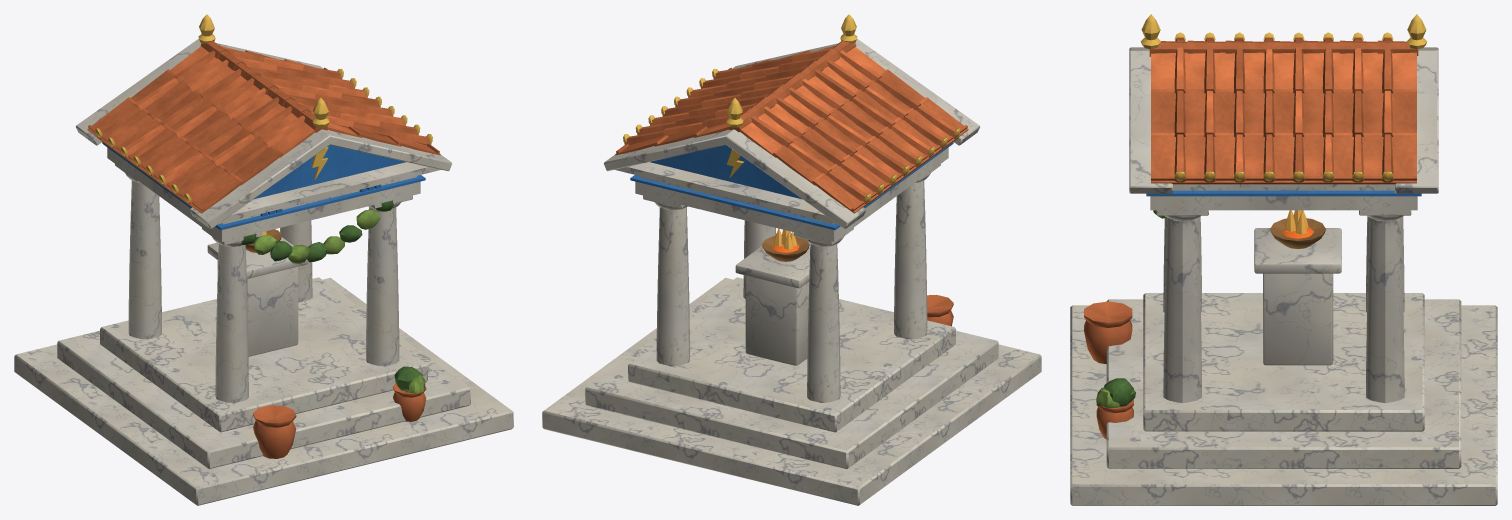
File: country_shrine_roadside.glb
3 views of the same model, side by side, from view 1: azimuth 30°, elevation 25°; view 2: azimuth 150°, elevation 25°; view 3: azimuth 270°, elevation 25° (orthographic). The views are drawn at different scales.
Visible parts, largest first — view 1: step, marble, terracotta1, terracotta0, terracotta2, paint_azure, terracotta, gold, leaf_dark, leaf; view 2: step, marble, terracotta1, terracotta0, terracotta2, paint_azure, gold, terracotta, bronze; view 3: step, marble, terracotta1, terracotta0, terracotta2, terracotta, gold, paint_azure, bronze, leaf_dark, flame.005.
Part boxes in pixels (box(x1,y1,x2,y2)): step: box(14, 277, 513, 505); marble: box(76, 39, 451, 402); terracotta1: box(88, 41, 439, 211); terracotta0: box(87, 48, 440, 213); terracotta2: box(122, 45, 405, 185); paint_azure: box(102, 142, 425, 230); terracotta: box(253, 383, 426, 458); gold: box(95, 14, 432, 202); leaf_dark: box(241, 200, 422, 390); leaf: box(253, 209, 425, 393); step: box(542, 277, 1041, 505); marble: box(604, 39, 979, 402); terracotta1: box(616, 40, 967, 211); terracotta0: box(615, 50, 968, 213); terracotta2: box(650, 45, 933, 185); paint_azure: box(630, 142, 953, 230); gold: box(623, 14, 960, 202); terracotta: box(927, 295, 953, 326); bronze: box(762, 235, 809, 261); step: box(1070, 293, 1497, 505); marble: box(1129, 47, 1438, 403); terracotta1: box(1149, 37, 1418, 182); terracotta0: box(1151, 37, 1416, 184); terracotta2: box(1151, 37, 1416, 182); terracotta: box(1084, 301, 1133, 439); gold: box(1140, 14, 1427, 181); paint_azure: box(1146, 190, 1421, 196); bronze: box(1270, 218, 1325, 248); leaf_dark: box(1104, 210, 1166, 406); flame.005: box(1285, 210, 1308, 234).
Size of the model in its own units: 3.04 by 3.16 by 3.04.
Materials: 13 (10 with a texture image).
